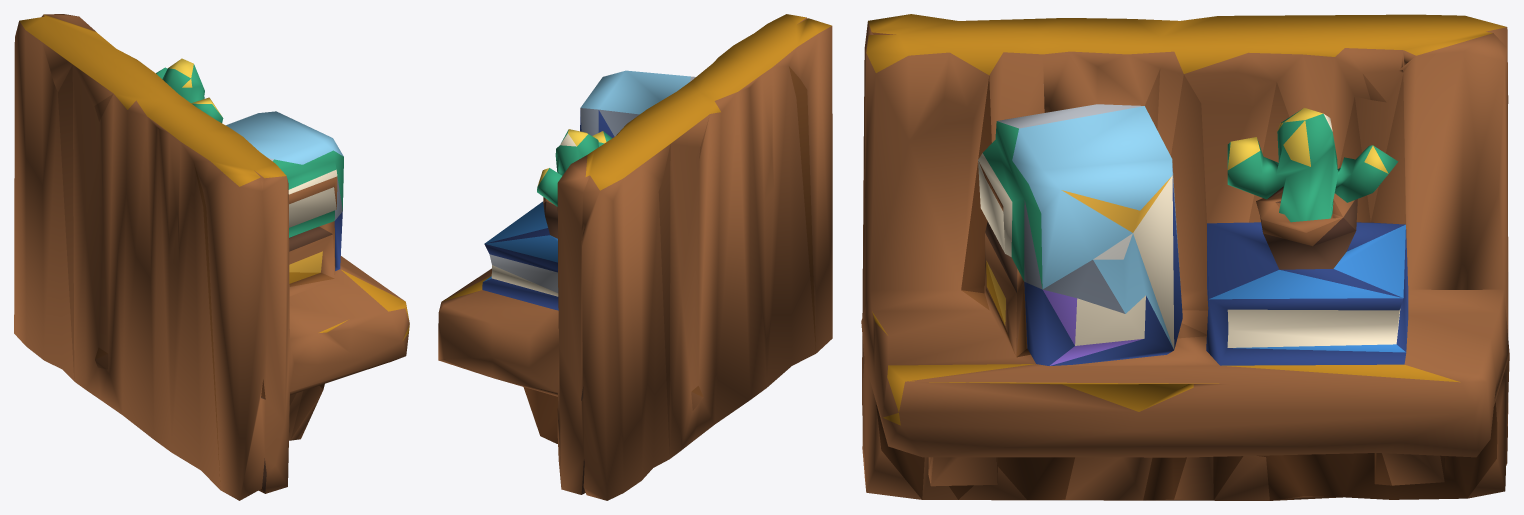
The model's file is SM_shelf_wall_books.fbx.
The picture shows the model from 3 angles, left to right: view 1: azimuth 30°, elevation 25°; view 2: azimuth 150°, elevation 25°; view 3: azimuth 270°, elevation 25°; orthographic projection. The views are drawn at different scales.
Parts seen in each view (by area): view 1: SM_shelf_wall_books; view 2: SM_shelf_wall_books; view 3: SM_shelf_wall_books.
Part boxes in pixels (bbox=[...]): SM_shelf_wall_books: bbox=[14, 14, 409, 500]; SM_shelf_wall_books: bbox=[438, 14, 832, 500]; SM_shelf_wall_books: bbox=[861, 14, 1509, 500].
Size of the model in its own units: 43.41 by 70 by 91.08.
Materials: 1 (1 with a texture image).
